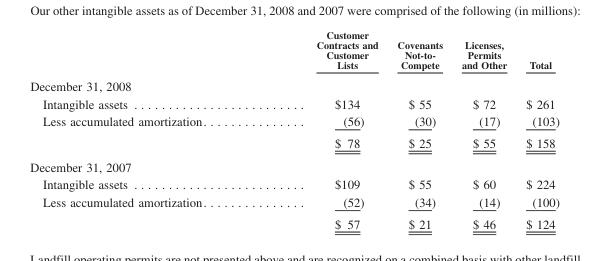table: (29, 28, 558, 230)
table column: (29, 28, 260, 230), (260, 28, 387, 230), (387, 28, 451, 230), (451, 28, 515, 230), (515, 28, 558, 230)
table column header: (29, 28, 558, 74)
table projected row header: (29, 154, 558, 175), (29, 74, 558, 94)
table row: (29, 28, 558, 74), (29, 131, 558, 154), (29, 154, 558, 175), (29, 74, 558, 94), (29, 192, 558, 212), (29, 112, 558, 131), (29, 94, 558, 112), (29, 212, 558, 230), (29, 175, 558, 192)
